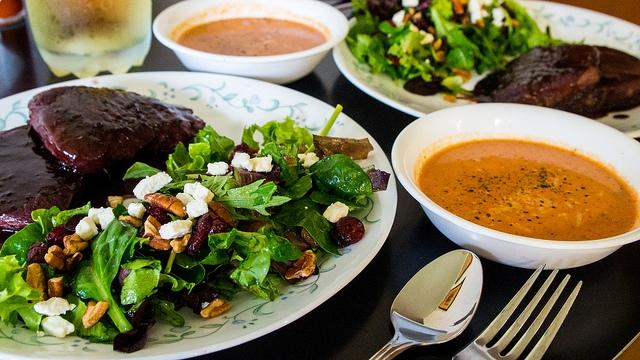lettuce: (68, 218, 138, 334), (506, 0, 586, 54), (199, 228, 271, 286), (200, 175, 292, 220), (59, 294, 121, 344), (233, 160, 287, 217), (309, 154, 374, 198), (466, 16, 510, 75), (356, 34, 400, 88), (121, 252, 163, 306), (1, 222, 46, 267), (257, 224, 304, 262), (276, 115, 314, 148), (52, 200, 92, 228), (436, 44, 476, 72), (376, 20, 412, 50), (8, 306, 48, 332), (276, 173, 314, 200), (348, 10, 380, 42), (152, 297, 186, 327), (170, 260, 205, 286), (400, 31, 431, 60), (175, 244, 210, 268), (122, 162, 162, 180), (193, 130, 210, 144)
